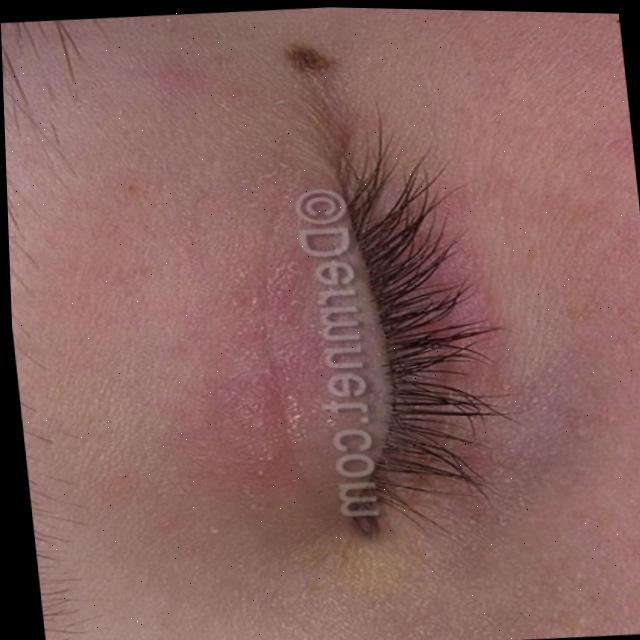Rosacea: (184, 244, 337, 490)
